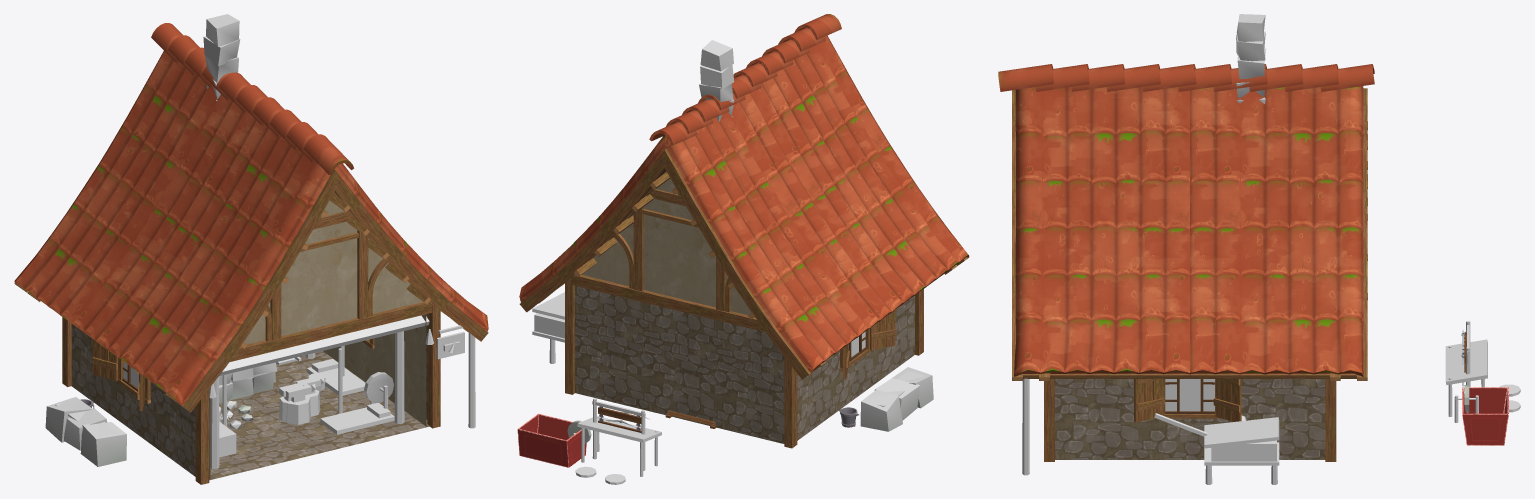
The model's file is smithy.gltf.
3 renders of one model, left to right at view 1: azimuth 30°, elevation 25°; view 2: azimuth 150°, elevation 25°; view 3: azimuth 270°, elevation 25°, orthographic. The views are drawn at different scales.
Parts seen in each view (by area): view 1: T3_KitRoofRoundTiles6x6029, T3_KitRoofFrontBrick6030, T3_KitFloorUnevenBrick023, T3_KitWallUnevenBrickStraight010, T3_KitWallUnevenBrickStraight009, T2_Roof009, T3_KitWallUnevenBrickStraight004, T3_KitWallUnevenBrickWindowWideRound005, T3_KitFloorUnevenBrick026, AO-quench_TroughStone001, T3_KitCornerExteriorWood017, T3_KitFloorUnevenBrick020 (+21 smaller); view 2: T3_KitRoofRoundTiles6x6029, T3_KitRoofFrontBrick6031, T3_KitWallUnevenBrickStraight002, T3_KitWallUnevenBrickStraight001, T3_KitWallUnevenBrickStraight003, AO-oresorter_Kitcartlow008, T3_KitWallUnevenBrickStraight004, T3_KitWallUnevenBrickStraight009, T3_KitWallUnevenBrickWindowWideRound005, AO-quench_TroughStone003, T3_KitCornerExteriorWood019, T3_KitCornerExteriorWood018 (+9 smaller); view 3: T3_KitRoofRoundTiles6x6029, T3_KitWallUnevenBrickStraight010, T3_KitWallUnevenBrickStraight015, T3_KitWallUnevenBrickWindowWideRound011, AO-oresorter_Kitcartlow008, T3_KitWindowShuttersWideRoundOpen014, AO-bellows_BigBellowsTop003, AO-oresorter_SortTable001, T3_WindowGlass013, AO-bellows_BigBellowsLeather002, T3_KitCornerExteriorWood018, T3_KitCornerExteriorWood017 (+4 smaller).
Boxes of the visible parts, box(x1,y1,x2,y2) form: T3_KitRoofRoundTiles6x6029: box(14, 23, 488, 412); T3_KitRoofFrontBrick6030: box(229, 194, 435, 362); T3_KitFloorUnevenBrick023: box(235, 415, 356, 462); T3_KitWallUnevenBrickStraight010: box(381, 314, 427, 426); T3_KitWallUnevenBrickStraight009: box(158, 387, 210, 479); T2_Roof009: box(219, 315, 429, 375); T3_KitWallUnevenBrickStraight004: box(71, 324, 113, 416); T3_KitWallUnevenBrickWindowWideRound005: box(113, 380, 157, 448); T3_KitFloorUnevenBrick026: box(318, 397, 429, 444); AO-quench_TroughStone001: box(80, 422, 126, 466); T3_KitCornerExteriorWood017: box(427, 306, 440, 428); T3_KitFloorUnevenBrick020: box(209, 430, 279, 480); T3_KitRoofRoundTiles6x6029: box(519, 14, 969, 379); T3_KitRoofFrontBrick6031: box(569, 172, 765, 331); T3_KitWallUnevenBrickStraight002: box(644, 302, 717, 427); T3_KitWallUnevenBrickStraight001: box(575, 285, 644, 409); T3_KitWallUnevenBrickStraight003: box(717, 320, 784, 443); AO-oresorter_Kitcartlow008: box(517, 413, 586, 467); T3_KitWallUnevenBrickStraight004: box(797, 355, 832, 440); T3_KitWallUnevenBrickStraight009: box(875, 295, 914, 383); T3_KitWallUnevenBrickWindowWideRound005: box(833, 350, 875, 414); AO-quench_TroughStone003: box(860, 389, 902, 431); T3_KitCornerExteriorWood019: box(784, 357, 797, 448); T3_KitCornerExteriorWood018: box(565, 279, 574, 394); T3_KitRoofRoundTiles6x6029: box(998, 64, 1374, 380); T3_KitWallUnevenBrickStraight010: box(1055, 379, 1143, 459); T3_KitWallUnevenBrickStraight015: box(1241, 379, 1325, 459); T3_KitWallUnevenBrickWindowWideRound011: box(1143, 418, 1232, 459); AO-oresorter_Kitcartlow008: box(1462, 387, 1508, 445); T3_KitWindowShuttersWideRoundOpen014: box(1134, 379, 1241, 422); AO-bellows_BigBellowsTop003: box(1204, 417, 1279, 448); AO-oresorter_SortTable001: box(1445, 339, 1487, 385); T3_WindowGlass013: box(1165, 379, 1214, 411); AO-bellows_BigBellowsLeather002: box(1211, 440, 1276, 461); T3_KitCornerExteriorWood018: box(1325, 379, 1336, 461); T3_KitCornerExteriorWood017: box(1044, 379, 1054, 461).
Bounding box in the file's own units: 9.34 × 9.1 × 11.14.
26 materials, 26 textured.
